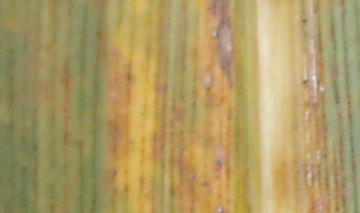tarspot: (301, 78, 311, 86), (299, 17, 309, 23)
